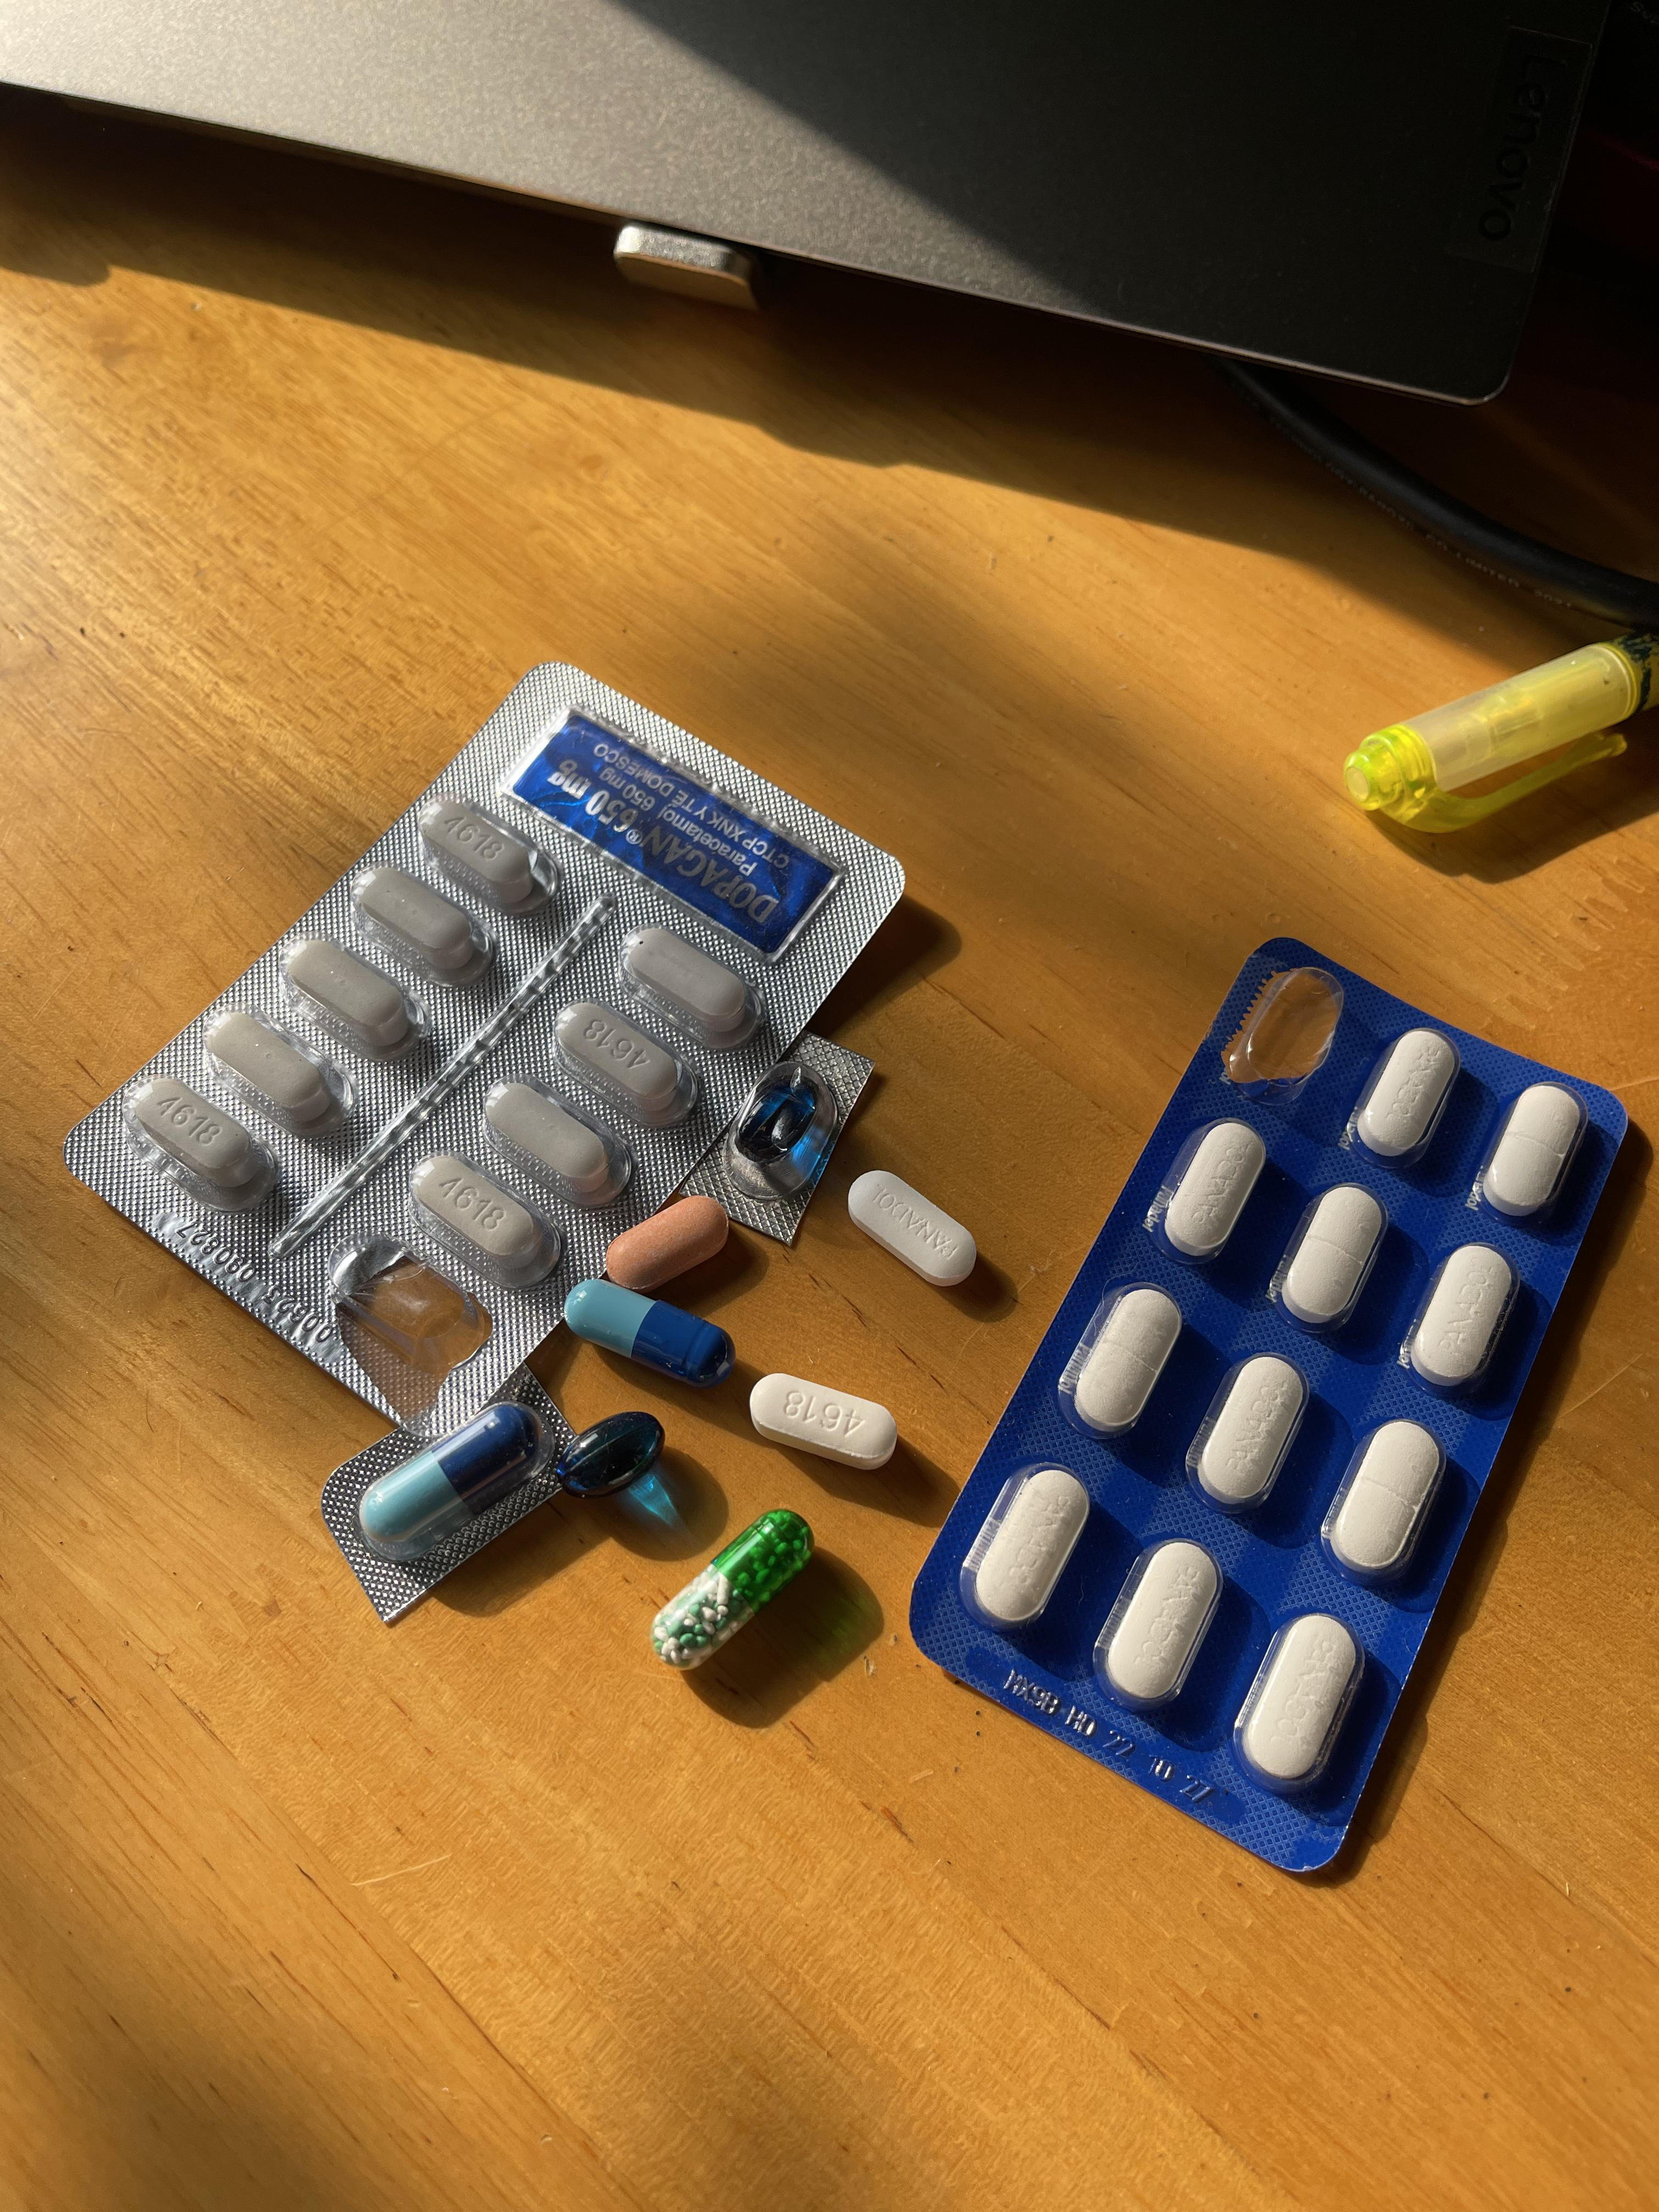Lincomyxin_500mg: (563, 1411, 662, 1493), (741, 1083, 817, 1162)
Loratadine_10mg: (601, 1195, 730, 1287)
Paracetamol_350mg: (1237, 1611, 1368, 1792), (1324, 1416, 1450, 1588), (1100, 1538, 1223, 1710), (969, 1467, 1091, 1627), (1190, 1353, 1310, 1514), (1066, 1285, 1183, 1439), (1405, 1242, 1518, 1397), (1274, 1183, 1387, 1332), (1159, 1120, 1267, 1263), (1478, 1080, 1584, 1223), (1352, 1028, 1460, 1163), (845, 1172, 971, 1285)
Paracetamol_500mg: (125, 1076, 272, 1212), (410, 1155, 558, 1284), (556, 1000, 699, 1127), (204, 1008, 345, 1134), (484, 1080, 620, 1209), (352, 867, 495, 989), (624, 925, 762, 1049), (284, 939, 418, 1054), (422, 798, 549, 914), (748, 1374, 896, 1467)
Paracetamol_650mg: (655, 1510, 812, 1665)
pill: (361, 1404, 535, 1550), (566, 1278, 728, 1383)
